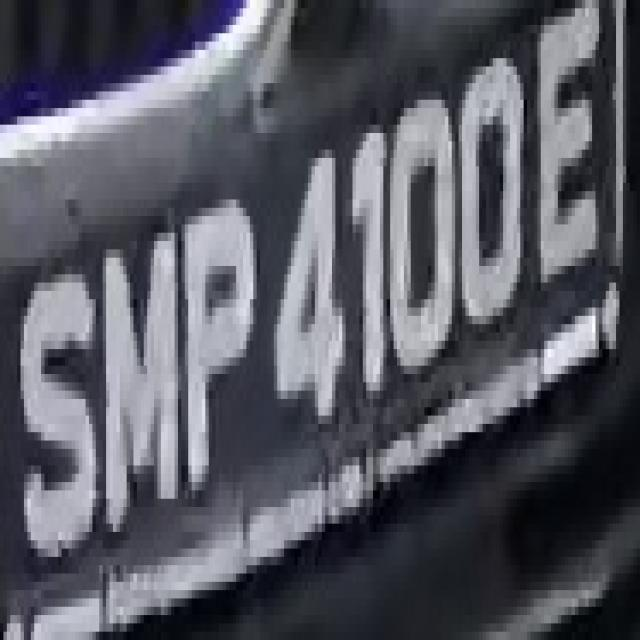0: (448, 25, 534, 349), (380, 83, 462, 407)
1: (349, 100, 390, 449)
4: (267, 150, 359, 448)
E: (527, 17, 613, 299)
M: (92, 241, 182, 540)
P: (185, 182, 260, 524)
S: (21, 266, 106, 582)
